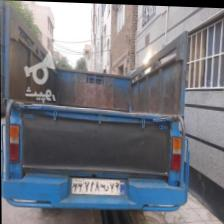plate: (71, 175, 127, 195)
